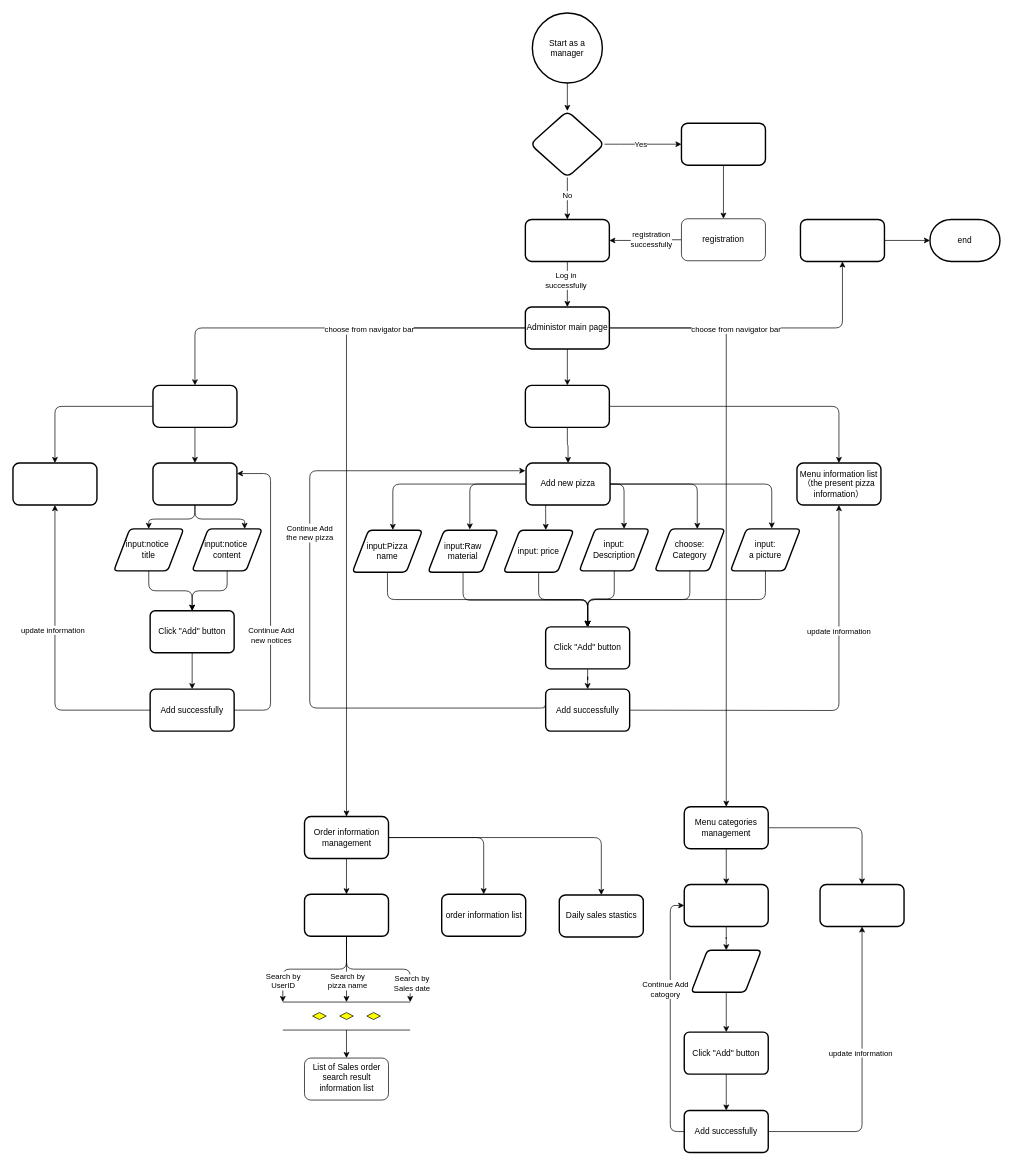
Some shapes in this 1012 by 1165 pixel diagram are drawn without their labels. Here are the shapes that lost their labels. From the top down, the centre of each, then its label:
At point (567, 144): "are you a new manager?".
At point (723, 144): "registration page".
At point (567, 240): "Log in page".
At point (842, 240): "Log out".
At point (194, 406): "announcement management".
At point (567, 406): "Menu management".
At point (54, 483): "announcement list".
At point (194, 483): "Add new notice".
At point (346, 915): "sales order inquiry（check ordrers）".
At point (726, 905): "Add new category".
At point (861, 905): "Catogory information list".
At point (726, 971): "input: Pizzas category".
